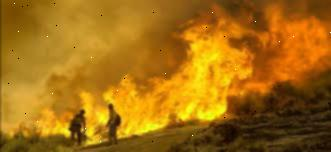fire: (118, 1, 331, 140), (22, 77, 116, 150)
